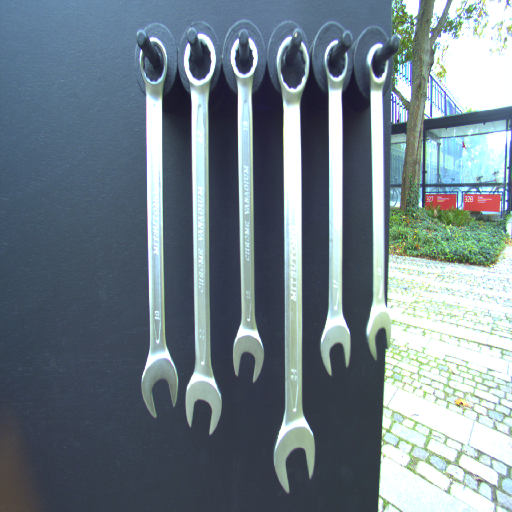bottom: (270, 416, 317, 495), (138, 354, 180, 421), (183, 372, 223, 437), (231, 324, 266, 387), (318, 315, 353, 378), (364, 304, 396, 360)
top: (274, 35, 310, 101), (181, 32, 218, 92), (136, 34, 169, 93), (228, 34, 260, 85), (322, 38, 350, 90), (365, 41, 391, 89)
